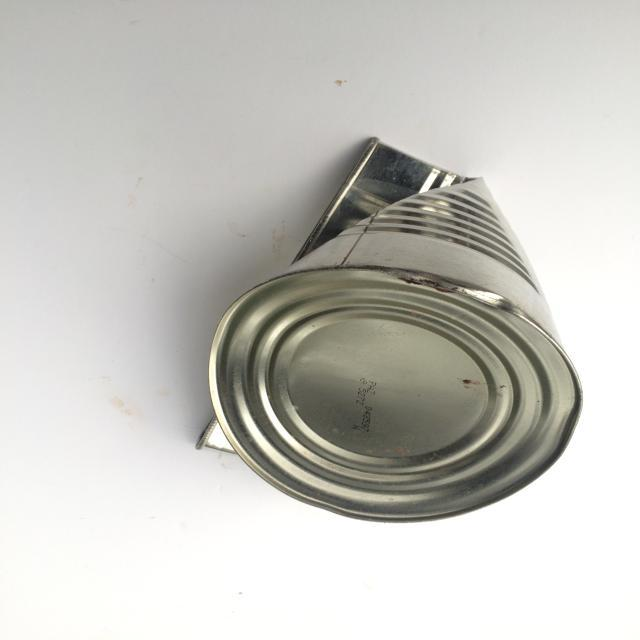metal: (194, 137, 586, 527)
